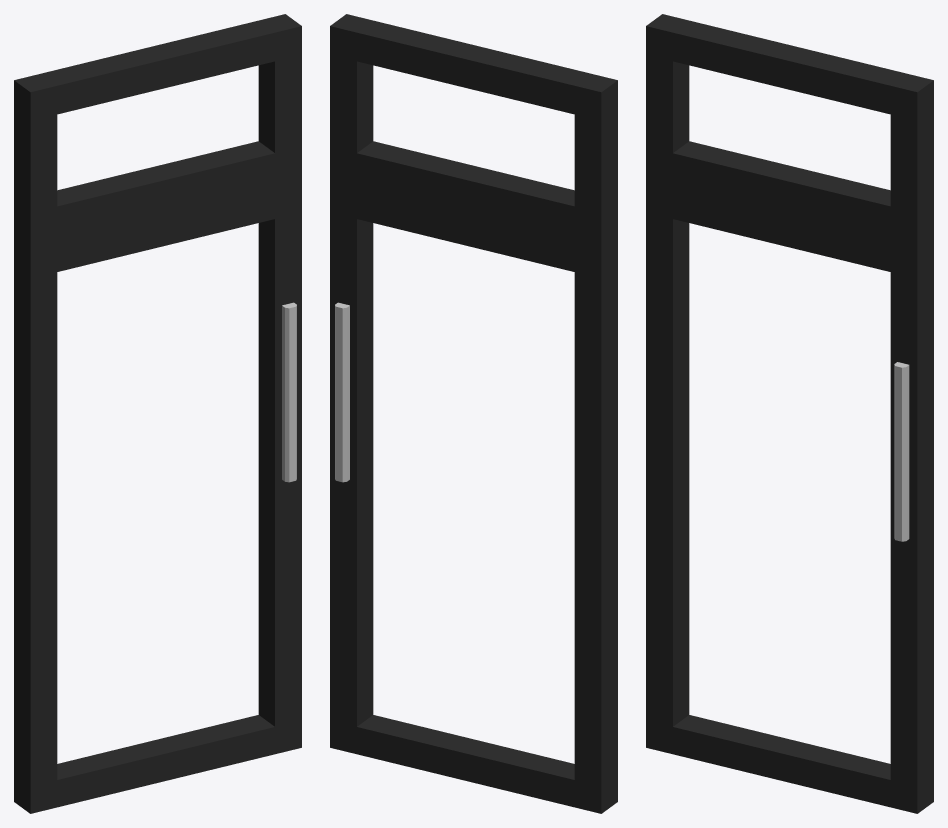
The model's file is door_2.fbx.
3 renders of one model, left to right at view 1: azimuth 30°, elevation 25°; view 2: azimuth 150°, elevation 25°; view 3: azimuth 330°, elevation 25°, orthographic.
Visible parts, largest first — view 1: door_2; view 2: door_2; view 3: door_2.
Boxes of the visible parts, x1,y1,x2,y2 form: door_2: [14, 14, 301, 813]; door_2: [330, 14, 617, 813]; door_2: [646, 14, 933, 813].
Size of the model in its own units: 95 by 241 by 15.82.
